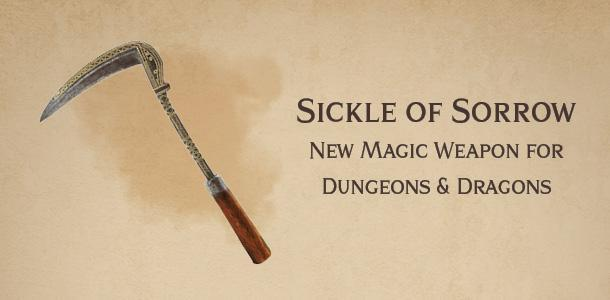foice: (40, 41, 270, 263)
